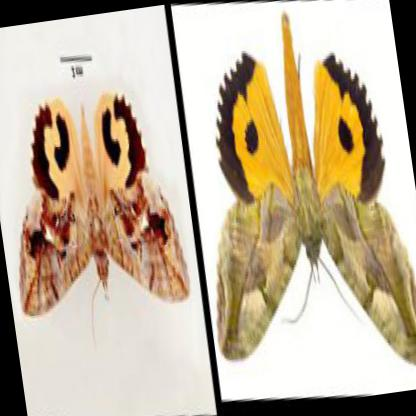fruit sucking moth: (213, 21, 416, 369), (19, 90, 189, 315)
